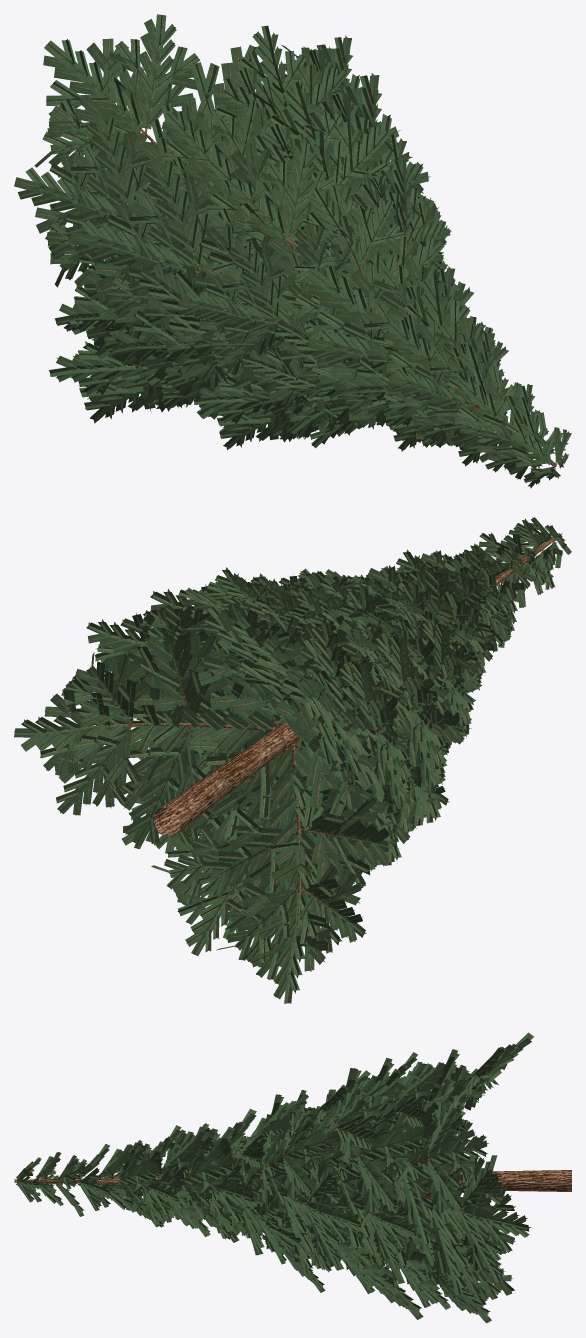
File: Tree1.dae
3 views of the same model, one above another, from view 1: azimuth 30°, elevation 25°; view 2: azimuth 150°, elevation 25°; view 3: azimuth 270°, elevation 25° (orthographic). The views are drawn at different scales.
Visible parts, largest first — view 1: node; view 2: node; view 3: node.
Part boxes in pixels (bbox=[...]): node: bbox=[14, 14, 571, 488]; node: bbox=[14, 517, 571, 1003]; node: bbox=[14, 1032, 571, 1323].
Bounding box in the file's own units: 3.23 × 3.2 × 6.03.
Materials: 2 (2 with a texture image).
